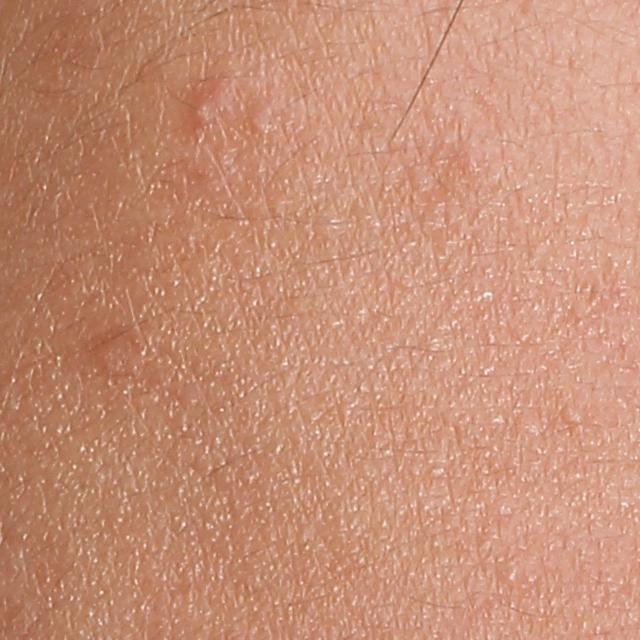comedo: (556, 405, 585, 427), (500, 565, 522, 586)
papule: (185, 88, 225, 130)
